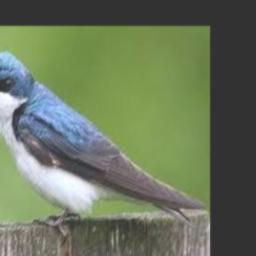Swallow: (0, 49, 206, 229)
